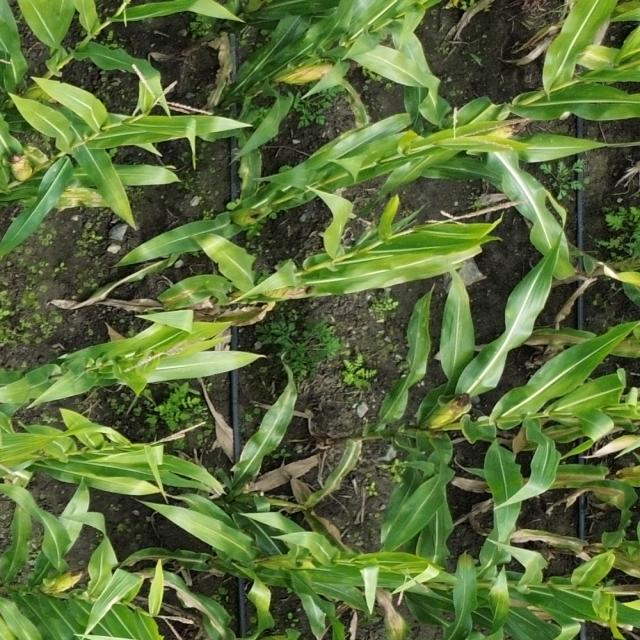gray-leaf-spot: (265, 393, 289, 443), (62, 186, 104, 210), (412, 296, 433, 343), (456, 559, 477, 587), (296, 0, 326, 16)
northern-leaf-blight: (170, 581, 229, 635), (547, 327, 636, 359), (588, 478, 636, 514), (543, 418, 605, 445), (160, 284, 208, 312), (556, 466, 598, 490)
southern-leaf-blight: (9, 546, 29, 578), (526, 133, 562, 149)
